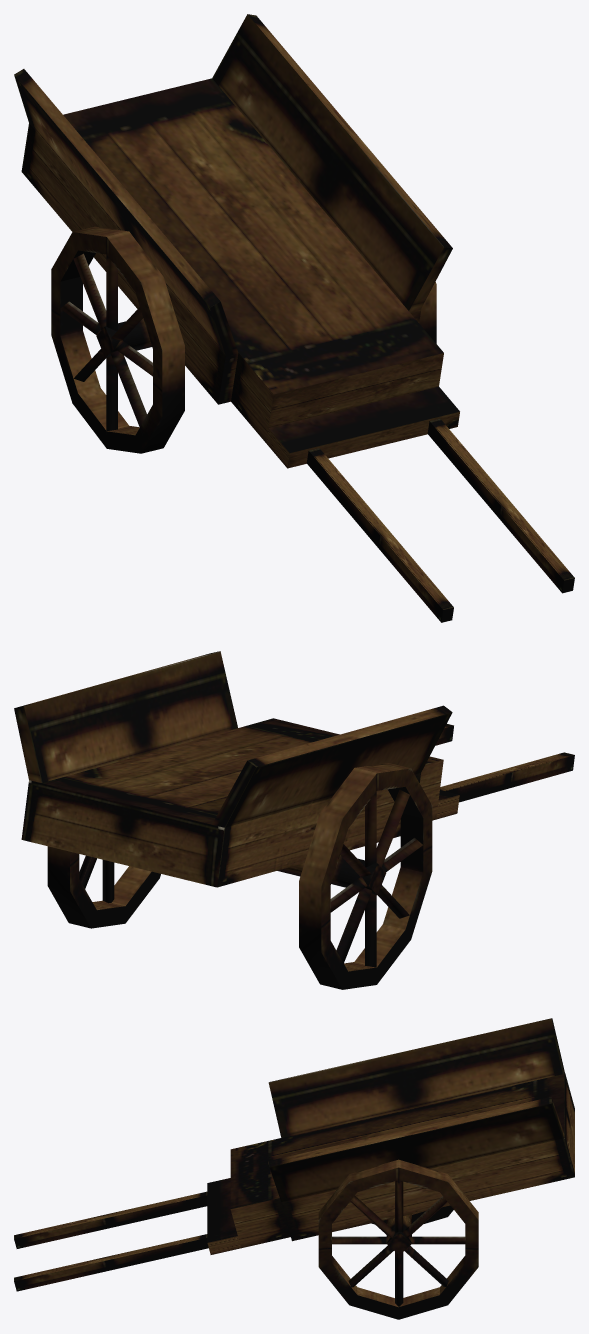
Rendered from Carriage02.glb.
3 renders of one model, top to bottom at view 1: azimuth 30°, elevation 25°; view 2: azimuth 150°, elevation 25°; view 3: azimuth 270°, elevation 25°, orthographic. The views are drawn at different scales.
Visible parts, largest first — view 1: Carriage02; view 2: Carriage02; view 3: Carriage02.
Boxes of the visible parts, x1,y1,x2,y2 form: Carriage02: (14,14,574,622); Carriage02: (14,651,574,989); Carriage02: (14,1018,574,1319).
Size of the model in its own units: 1.79 by 1.83 by 4.37.
1 material, 1 textured.
